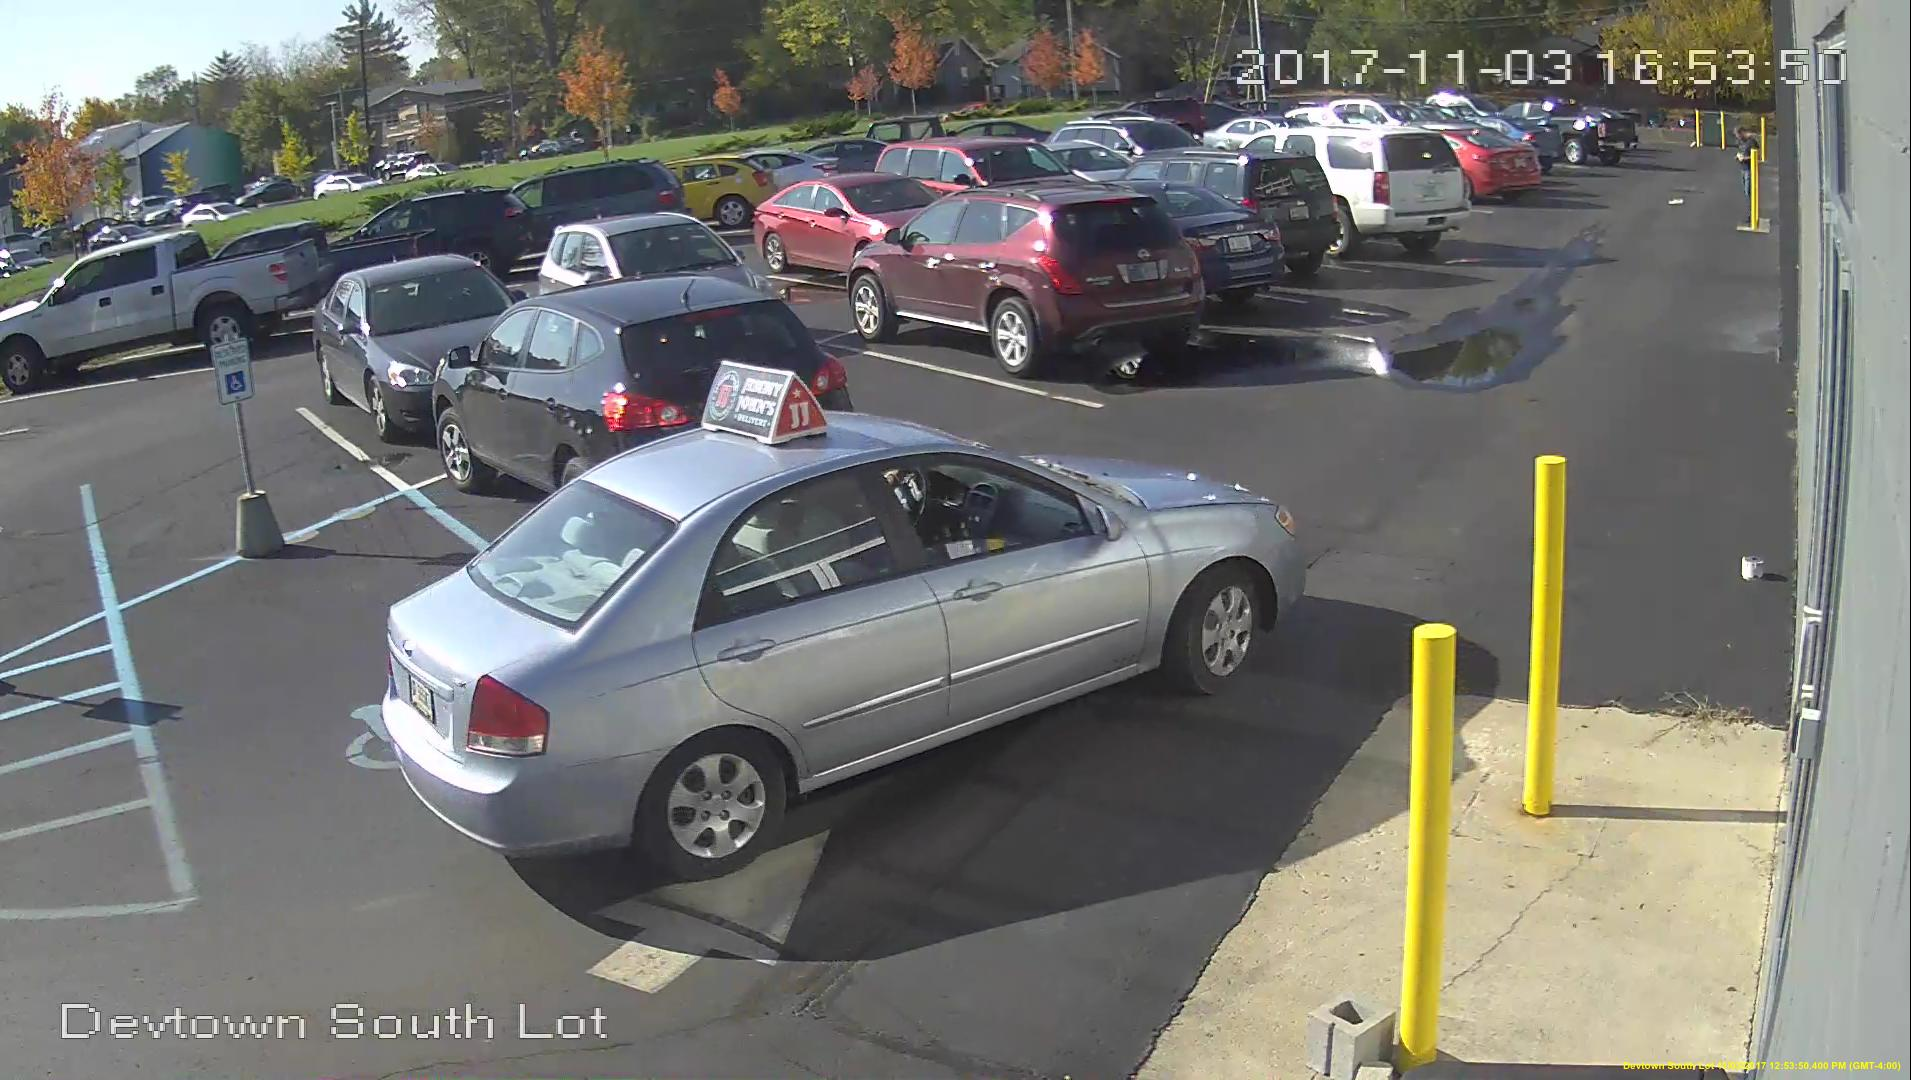jimmy_johns: (701, 353, 829, 451)
